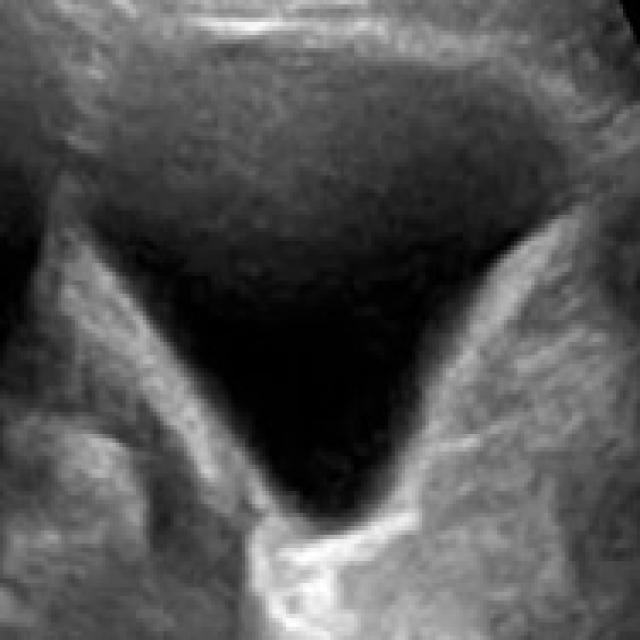bladder: (53, 14, 607, 596)
